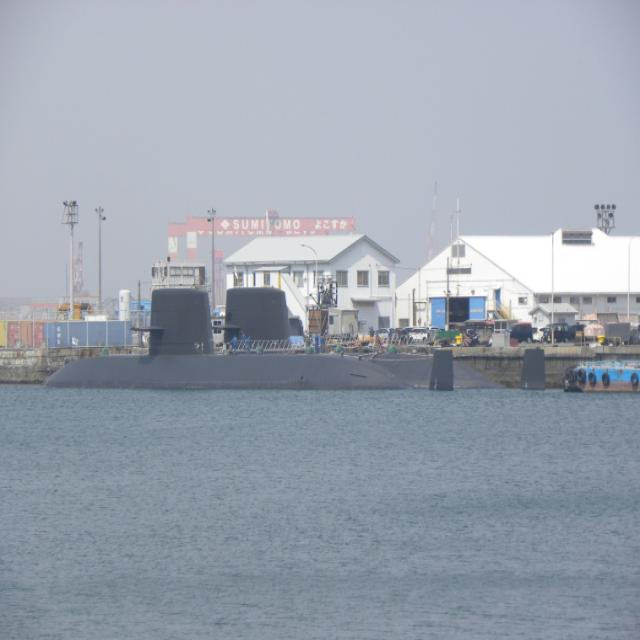submarine: (37, 290, 453, 391), (225, 289, 548, 388)
